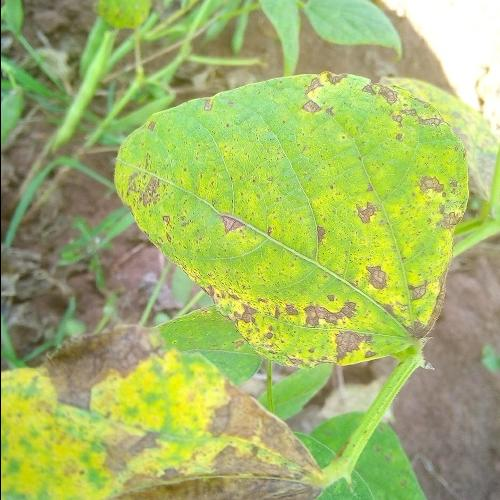hawar: (114, 74, 459, 364)
